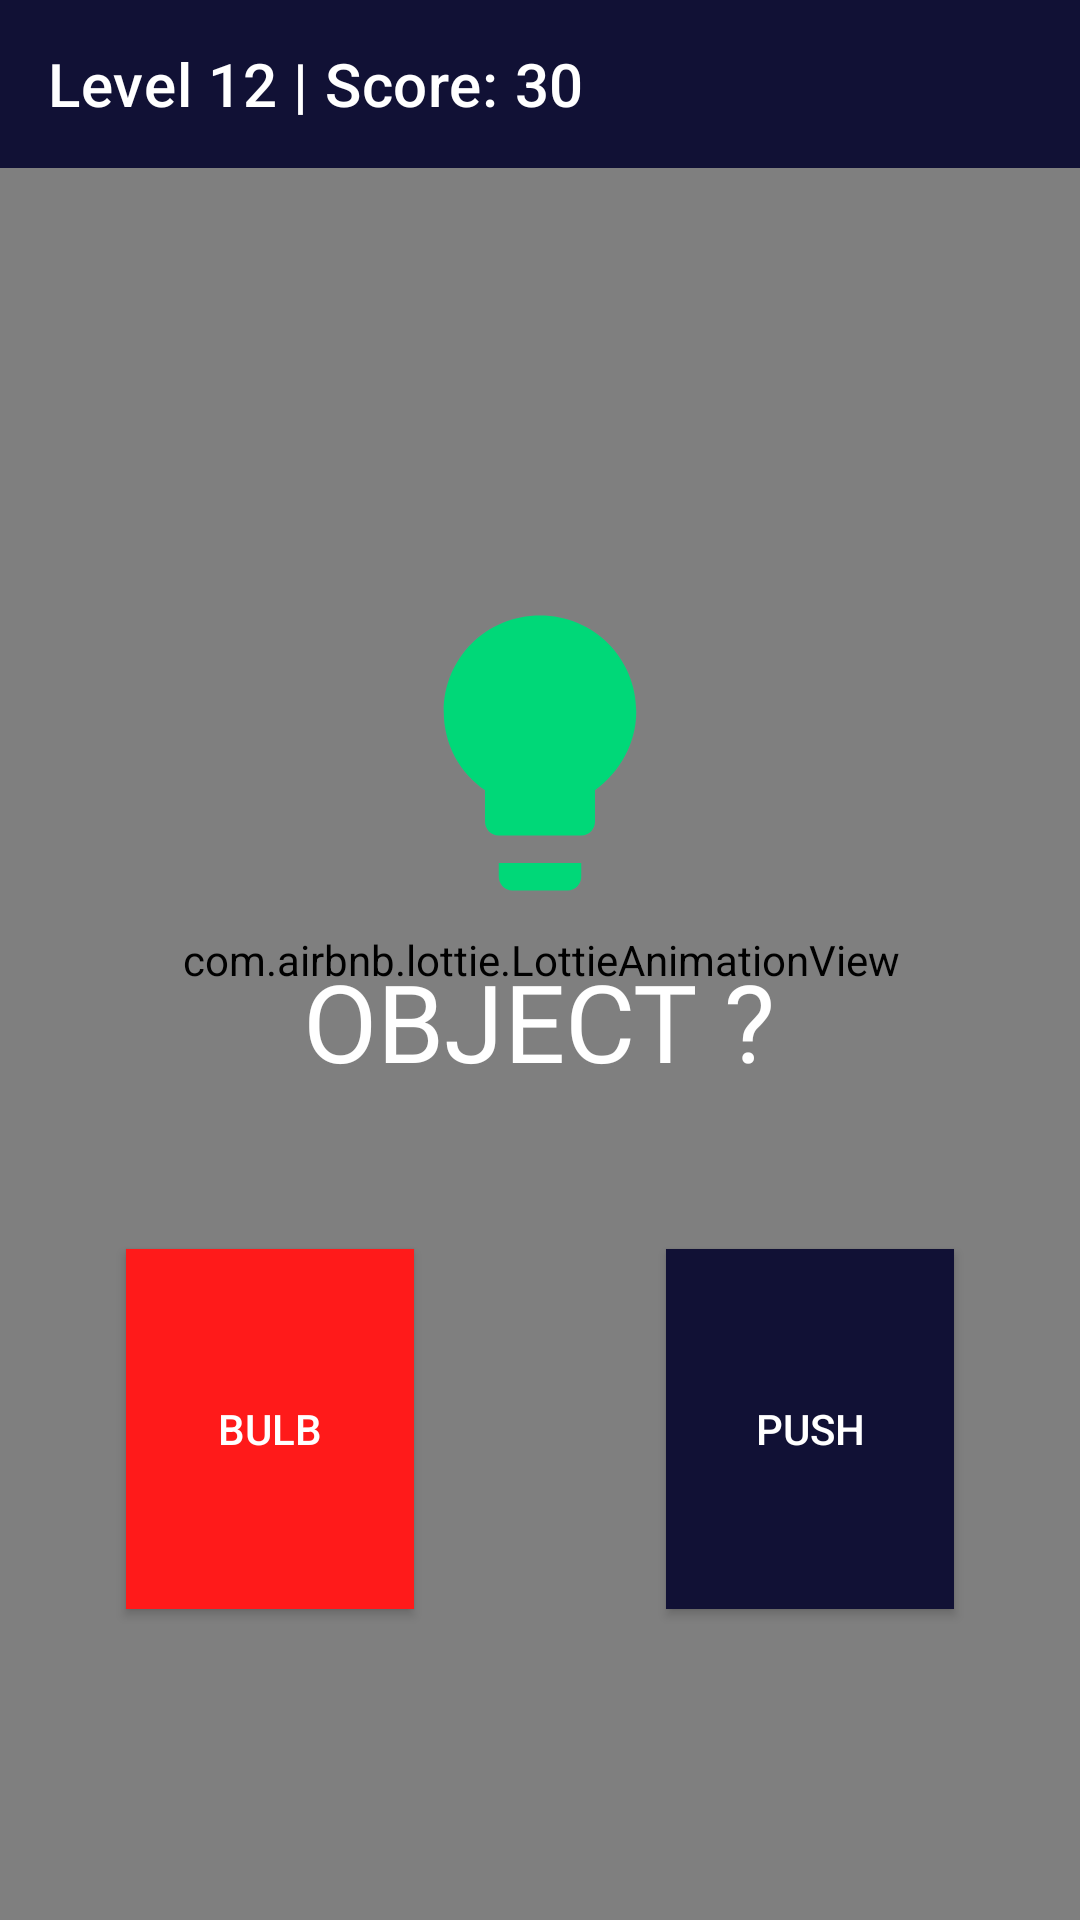

Icons on this 1080x1920 Android screen, each with its box as [x1,y1,x2,y2]:
bulb: [443,615,637,891]
